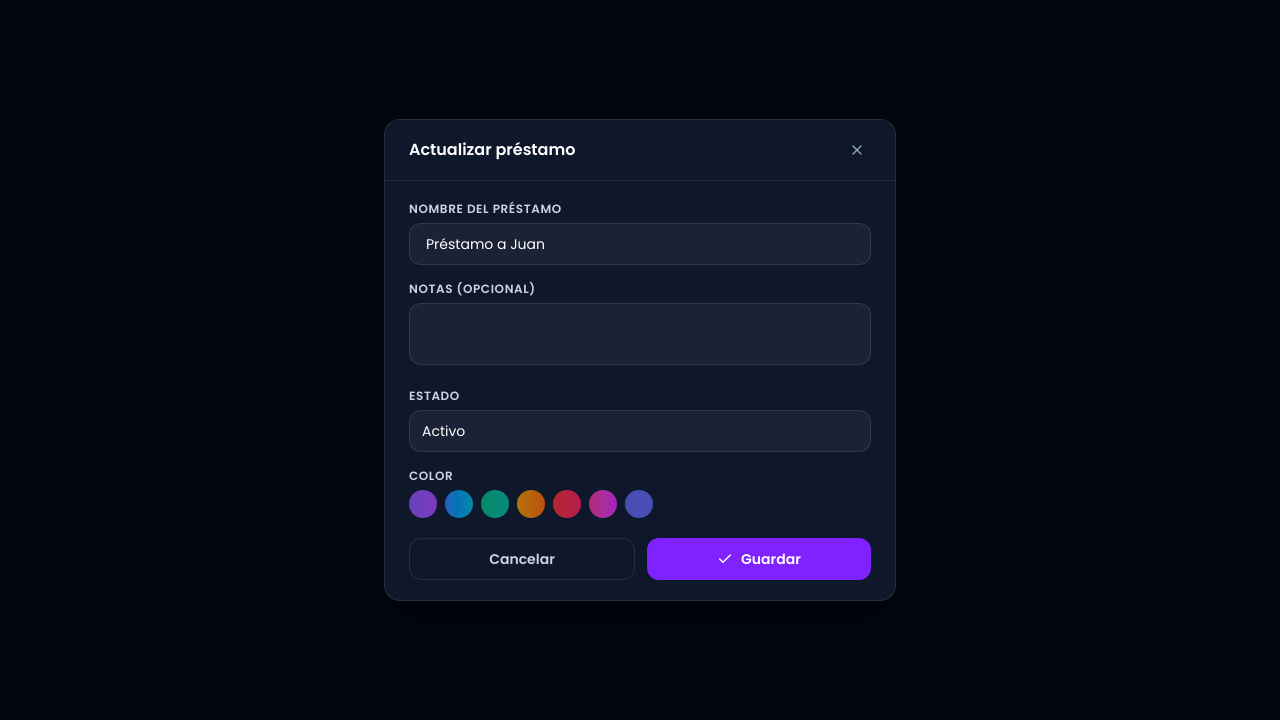
it: EditLoanModal › mapea el error de validación del servidor
This screenshot has width=1280, height=720.
Expected: the field labelled "Nombre del préstamo" holds "Préstamo a Juan", [409, 223, 871, 265]
Click the submit button.
click(759, 559)  # box [647, 538, 871, 580]
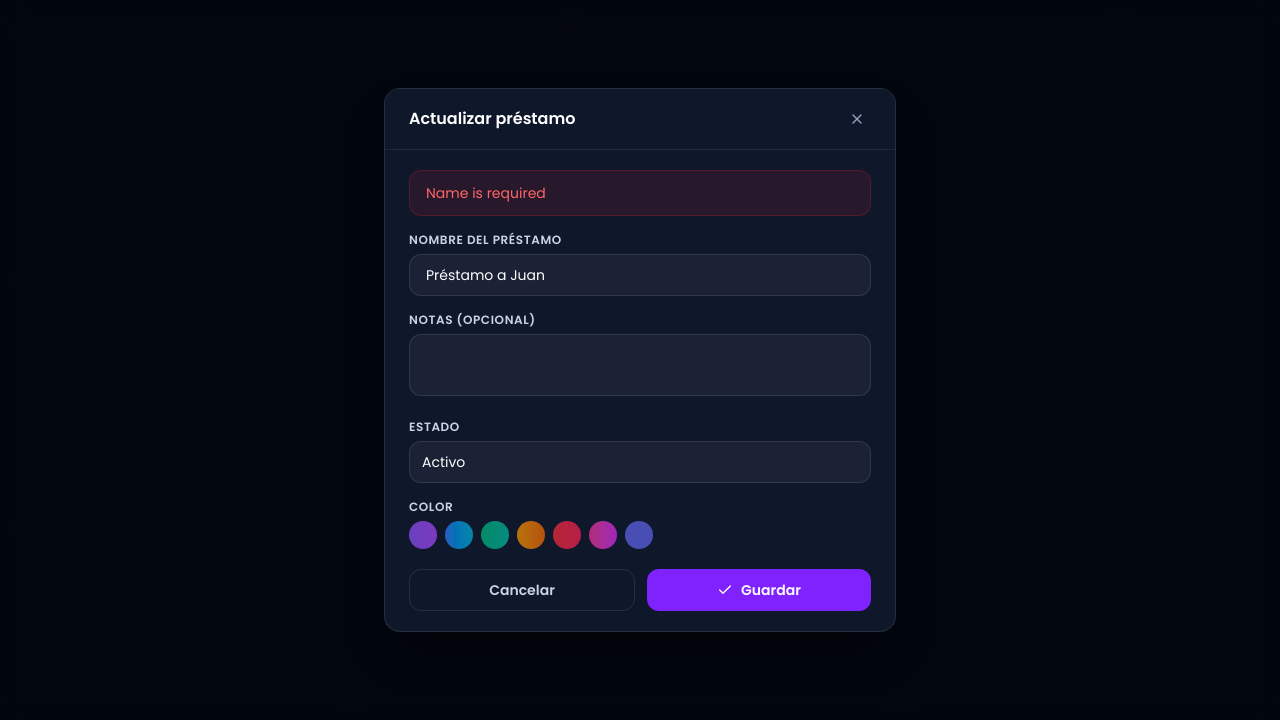
Expected: the message reads "Name is required", [426, 183, 546, 203]
